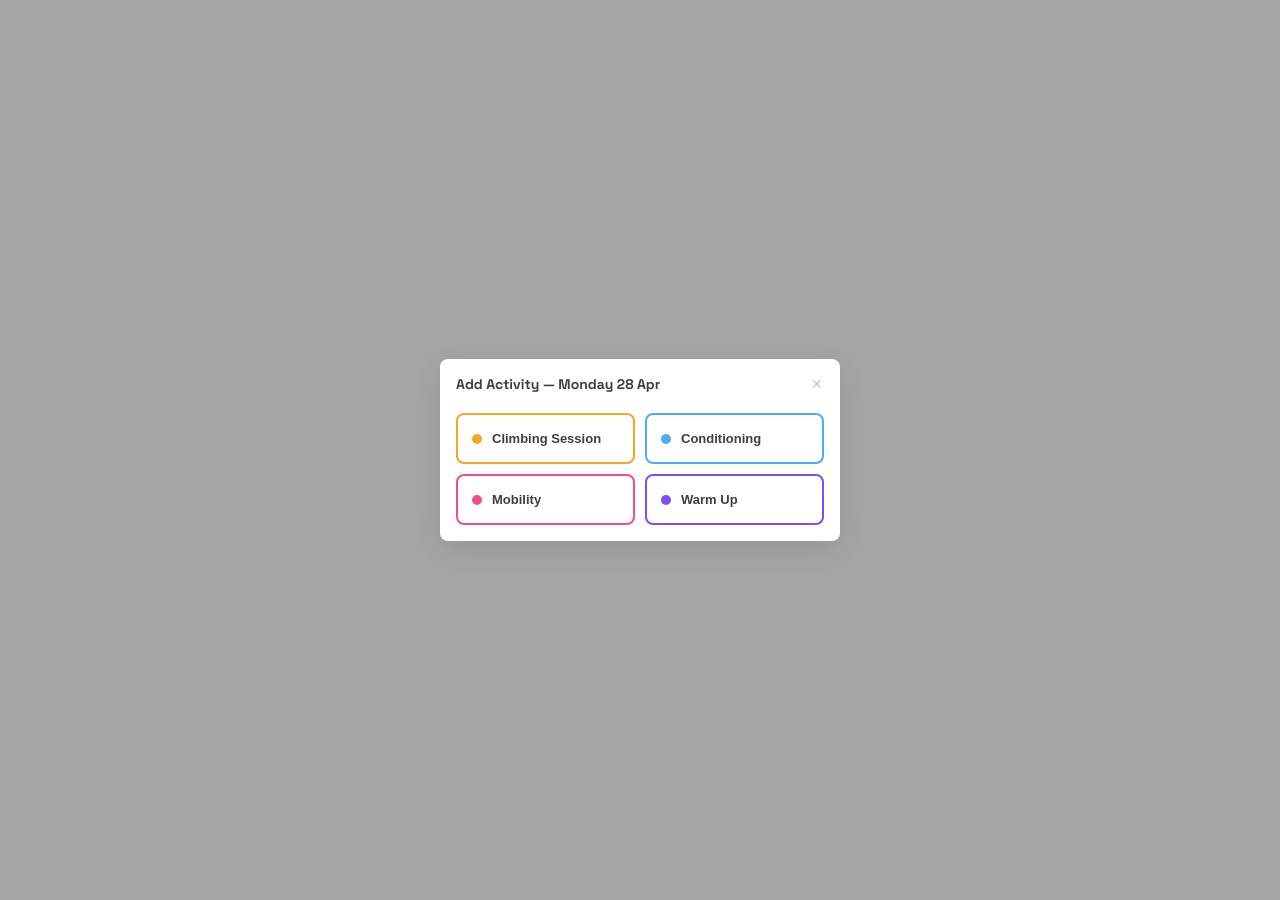
Test: AddActivityModal › Step 2: Back button › returns to step 1 when clicked
Click the button "Conditioning" at coordinates (734, 438), box [645, 413, 824, 464]
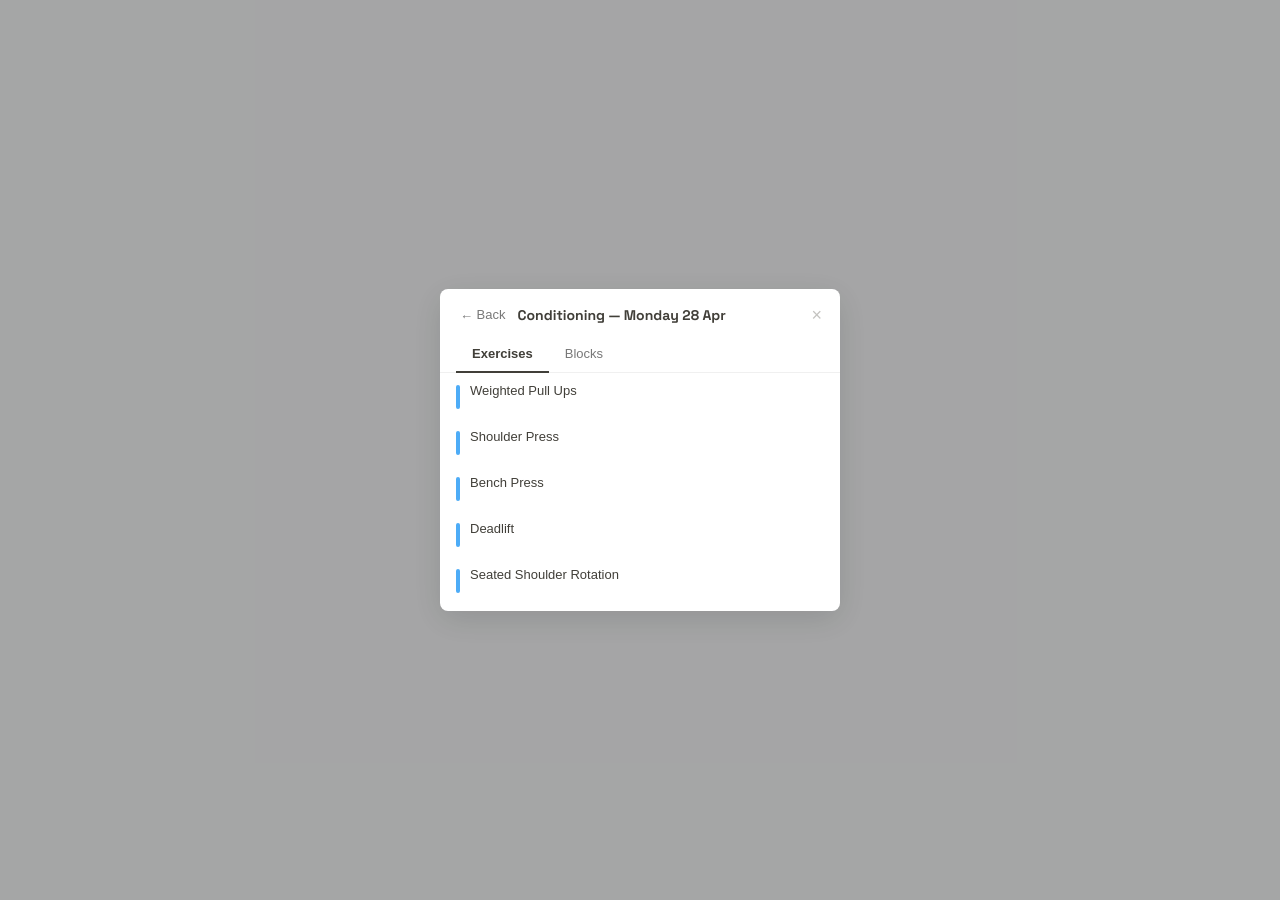
Click the button "← Back" at coordinates (483, 314), box [456, 305, 510, 324]
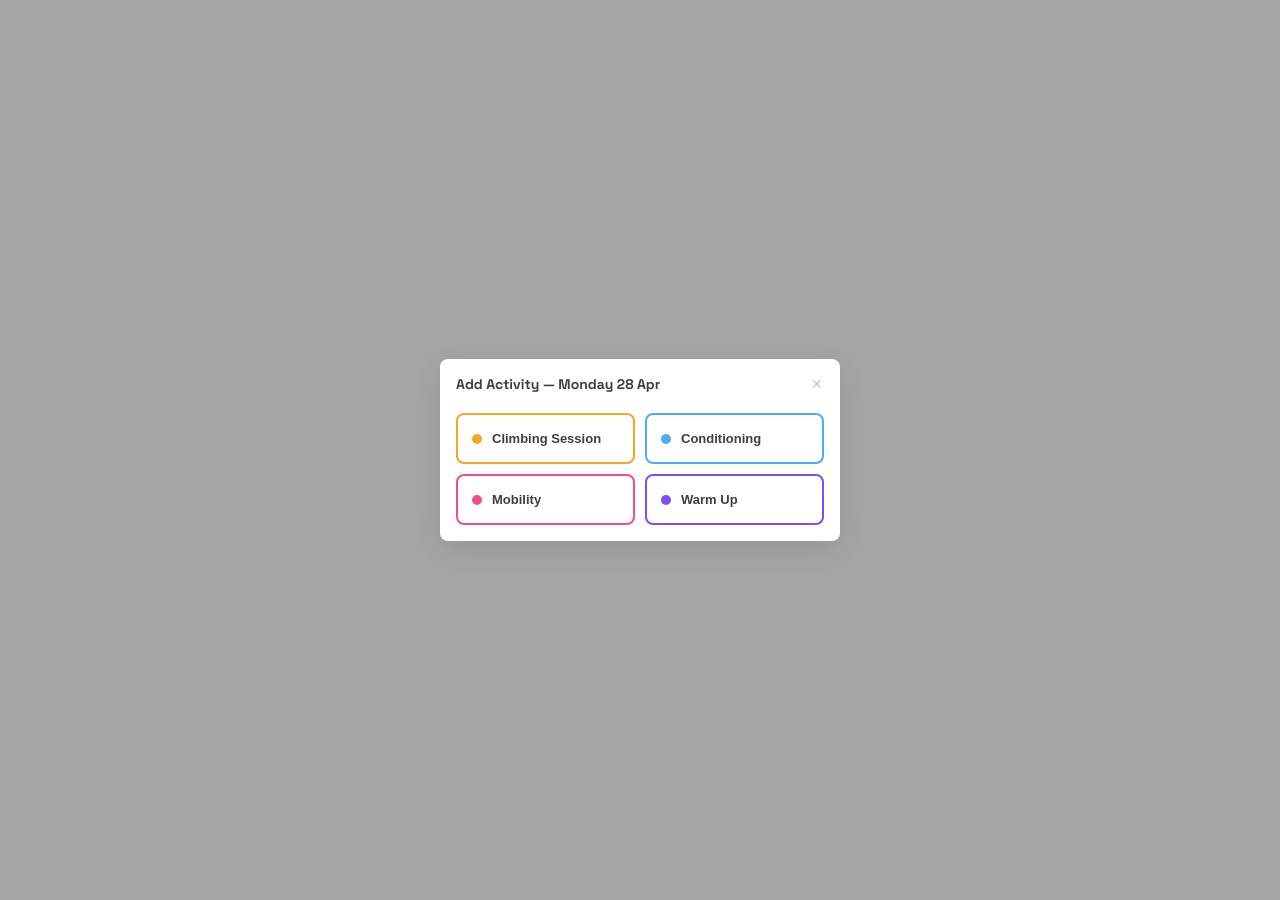
Now the button "Climbing Session" is shown, box [456, 413, 635, 464]
Now the button "Mobility" is shown, box [456, 474, 635, 525]
Now the button "Warm Up" is shown, box [645, 474, 824, 525]
